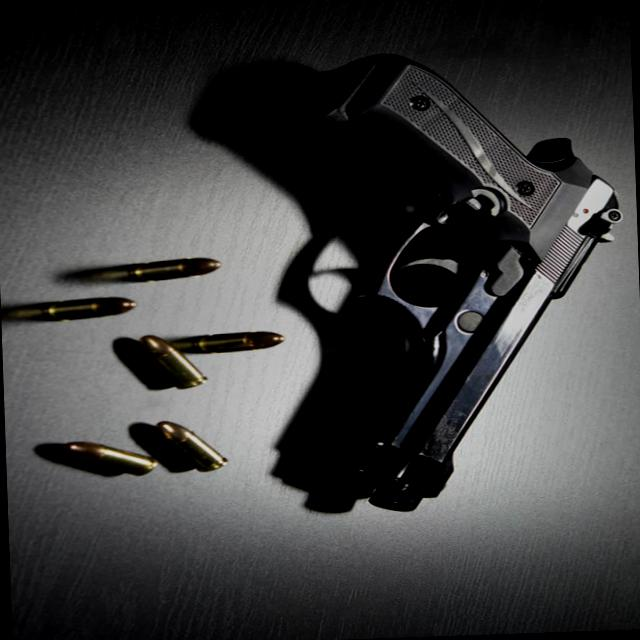handgun: (199, 52, 639, 530)
